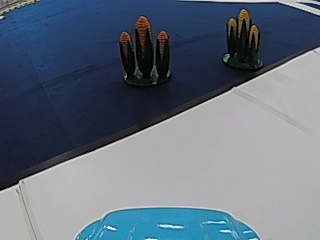corn: (116, 15, 173, 87), (222, 6, 264, 70)
